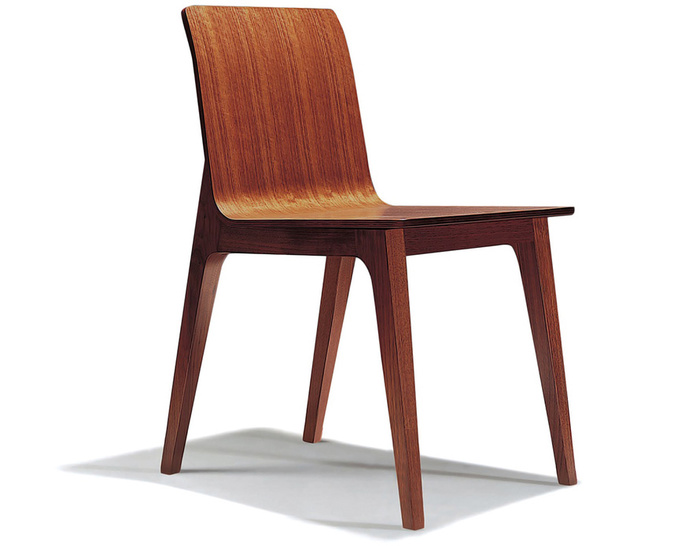chairs: (154, 9, 608, 533)
